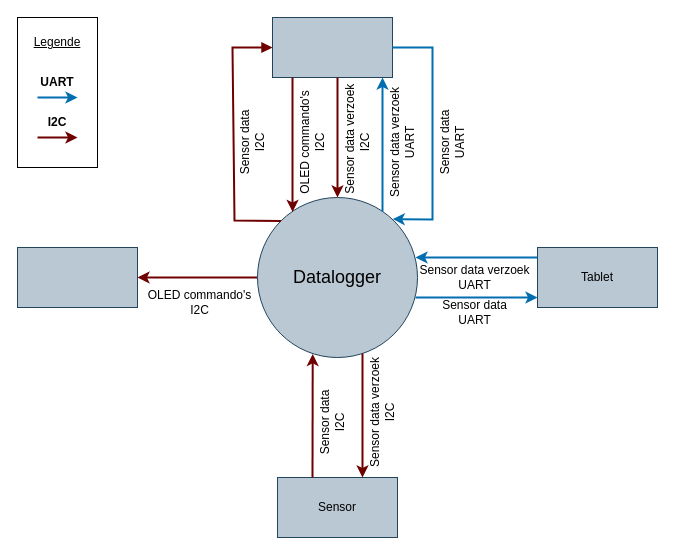
This 675x555 diagram has some shape labels left out. Here are the shapes that lost their labels. From the top down, the centre of each, then its label:
At point (332, 47): "ATMega".
At point (77, 277): "OLED".
